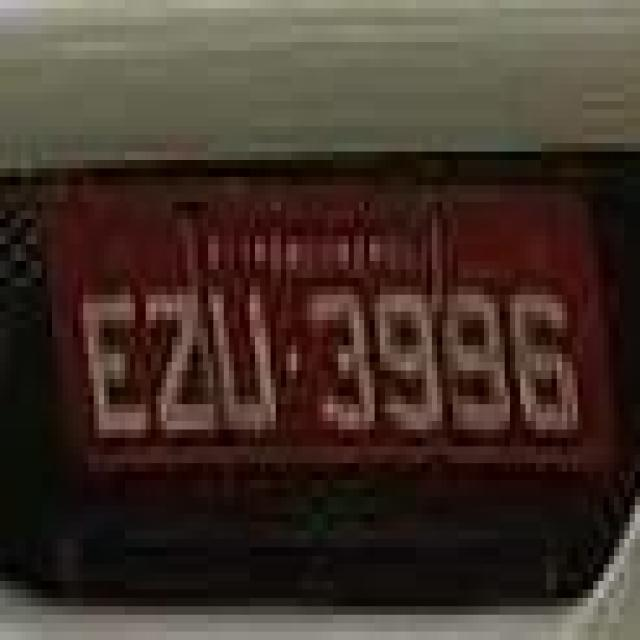3: (315, 270, 374, 453)
6: (506, 271, 580, 453)
9: (442, 271, 513, 456), (370, 266, 441, 451)
E: (90, 294, 147, 450)
U: (215, 267, 279, 448)
Z: (152, 283, 208, 444)
